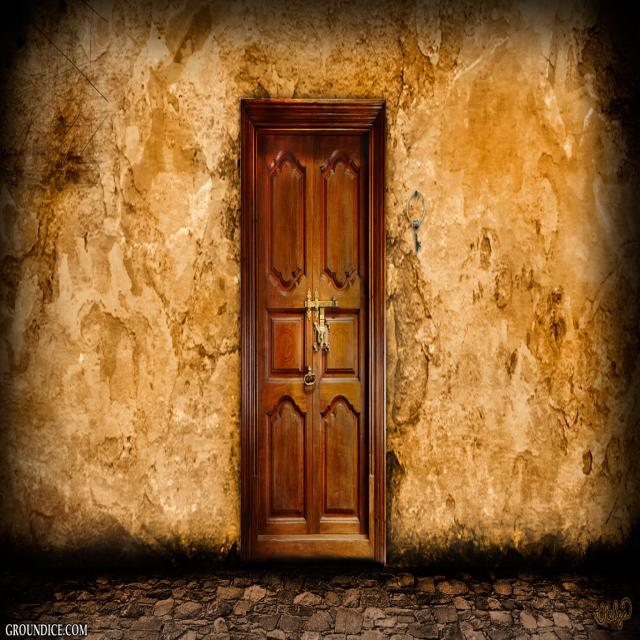close: (247, 110, 378, 568)
